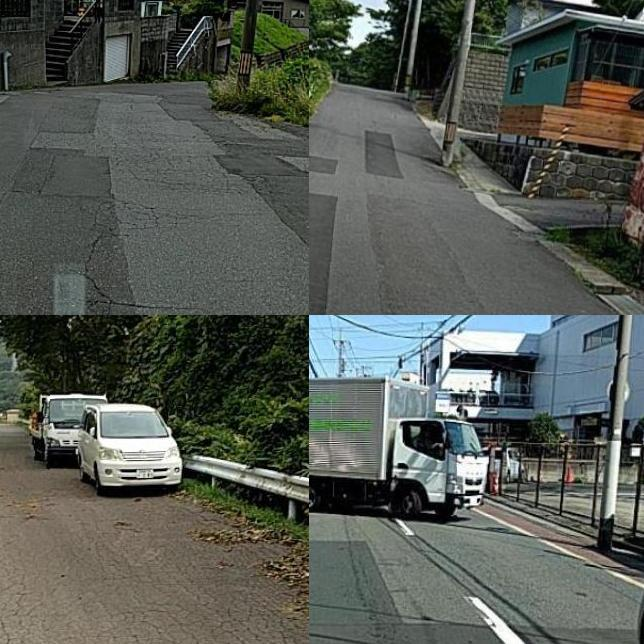Sambungan: (0, 143, 139, 315), (162, 105, 309, 250), (309, 539, 507, 644), (363, 129, 403, 176), (309, 155, 337, 176)
